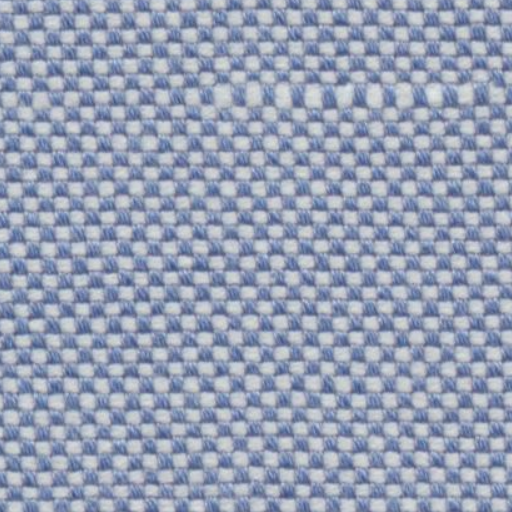DaiSha: (196, 62, 498, 118)
